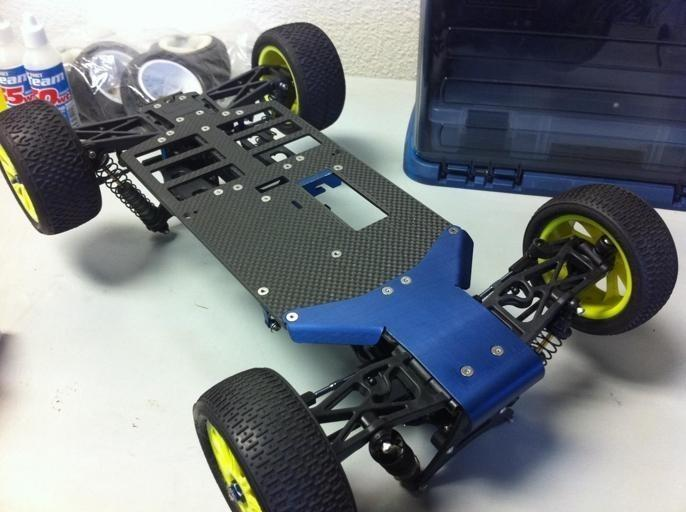Car: (3, 28, 681, 508)
